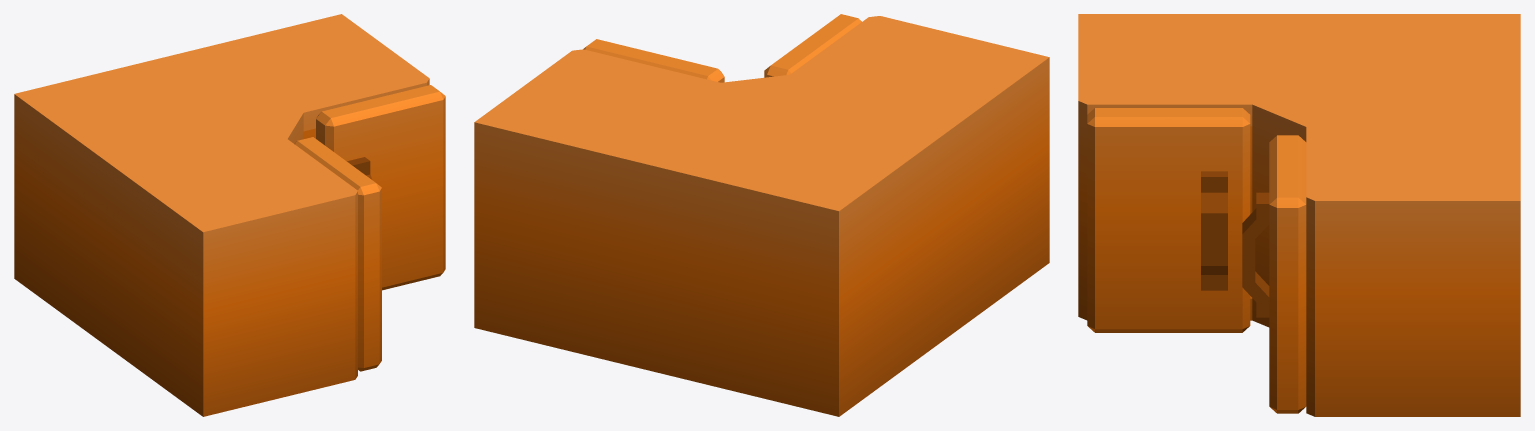
File: Cabinet_01_Corner_C03.fbx
The picture shows the model from 3 angles, left to right: view 1: azimuth 30°, elevation 25°; view 2: azimuth 150°, elevation 25°; view 3: azimuth 270°, elevation 25°; orthographic projection. The views are drawn at different scales.
Parts seen in each view (by area): view 1: Cabinet_01_Corner_C03, Cabinet_01_Corner_C03_Door_L, Cabinet_01_Corner_C03_Door_R; view 2: Cabinet_01_Corner_C03, Cabinet_01_Corner_C03_Door_R, Cabinet_01_Corner_C03_Door_L; view 3: Cabinet_01_Corner_C03, Cabinet_01_Corner_C03_Door_R, Cabinet_01_Corner_C03_Door_L.
Part boxes in pixels (box(x1,y1,x2,y2)): Cabinet_01_Corner_C03: box(14, 14, 429, 416); Cabinet_01_Corner_C03_Door_L: box(316, 85, 445, 290); Cabinet_01_Corner_C03_Door_R: box(294, 137, 381, 371); Cabinet_01_Corner_C03: box(474, 16, 1049, 416); Cabinet_01_Corner_C03_Door_R: box(764, 14, 861, 77); Cabinet_01_Corner_C03_Door_L: box(583, 39, 724, 82); Cabinet_01_Corner_C03: box(1078, 14, 1520, 416); Cabinet_01_Corner_C03_Door_R: box(1087, 108, 1250, 332); Cabinet_01_Corner_C03_Door_L: box(1242, 135, 1306, 413).
Size of the model in its own units: 100 by 53.91 by 100.
